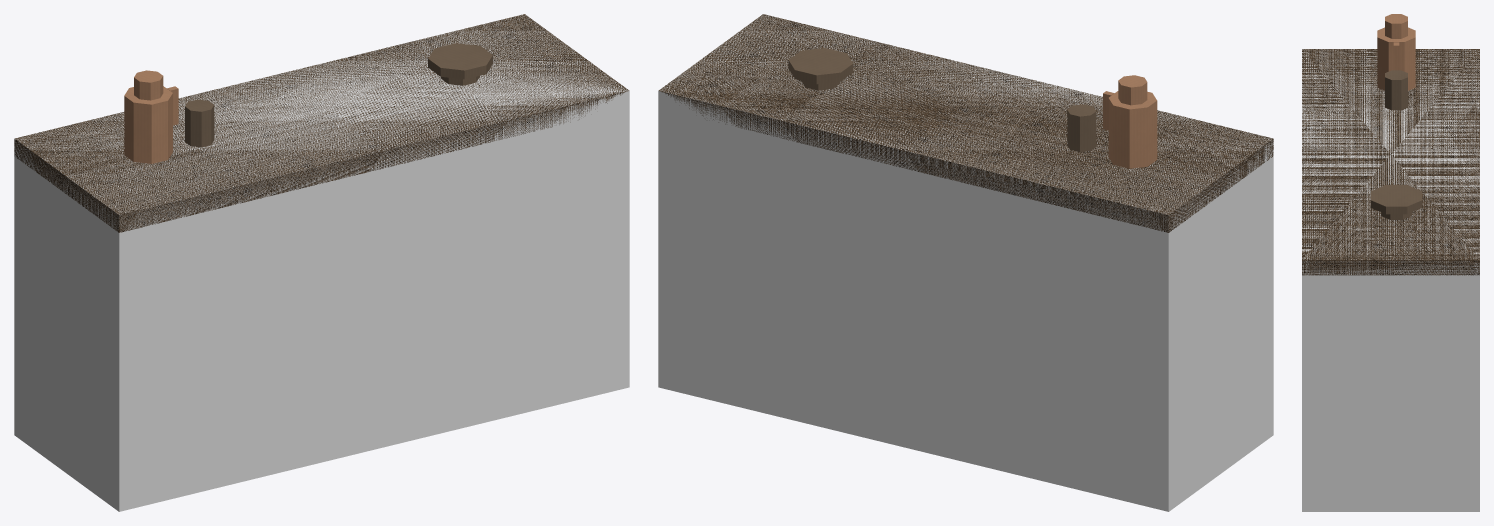
Rendered from counter.glb.
3 views of the same model, side by side, from view 1: azimuth 30°, elevation 25°; view 2: azimuth 150°, elevation 25°; view 3: azimuth 270°, elevation 25° (orthographic). The views are drawn at different scales.
Parts seen in each view (by area): view 1: COL_HULL_counter, counter; view 2: COL_HULL_counter, counter; view 3: COL_HULL_counter, counter.
Part boxes in pixels (bbox=[...]): COL_HULL_counter: bbox=[14, 14, 629, 511]; counter: bbox=[14, 14, 629, 232]; COL_HULL_counter: bbox=[658, 14, 1273, 511]; counter: bbox=[659, 14, 1273, 232]; COL_HULL_counter: bbox=[1302, 49, 1479, 511]; counter: bbox=[1302, 14, 1479, 275].
Size of the model in its own units: 1.8 by 1.26 by 0.64.
4 materials, 4 textured.
